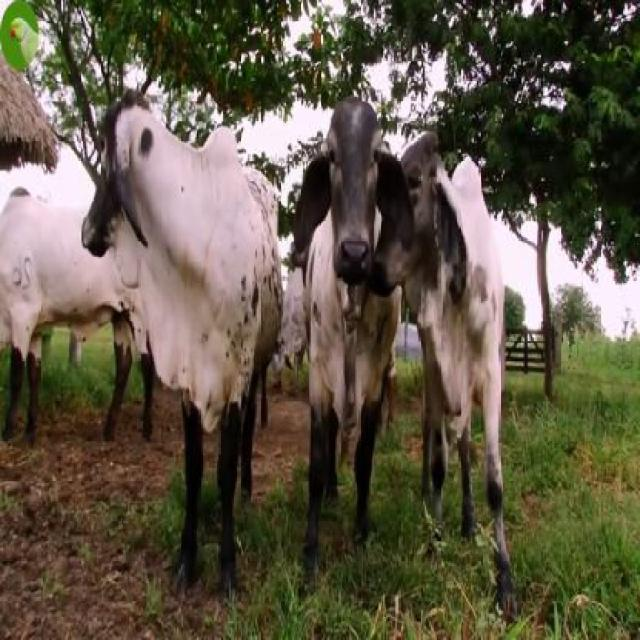Cow: (83, 94, 285, 597), (388, 112, 510, 592), (282, 92, 398, 585)
